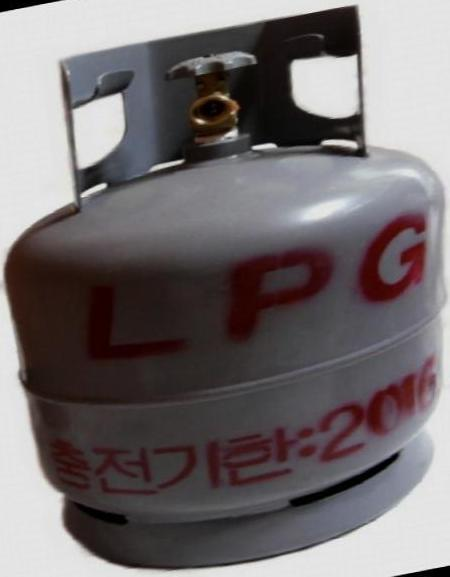cylinder: (1, 0, 450, 577)
